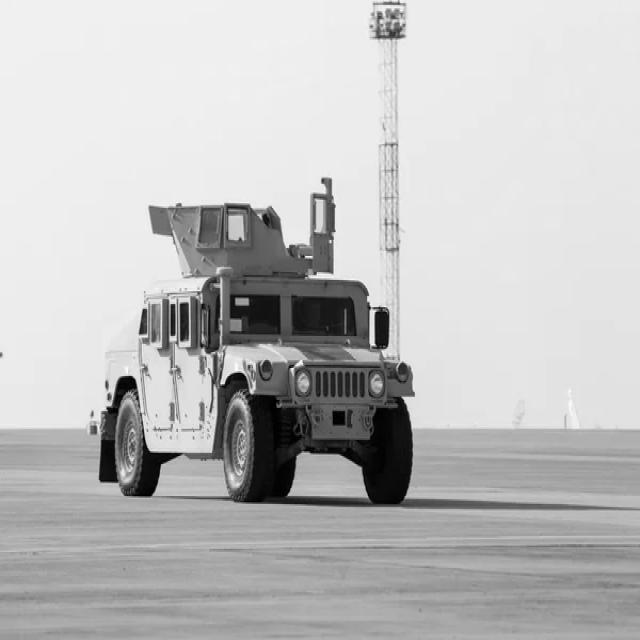Car: (99, 178, 415, 504)
